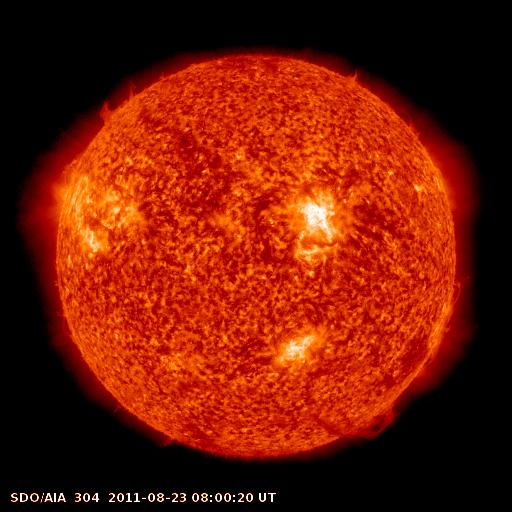prominence: (311, 400, 409, 448), (96, 76, 148, 123), (435, 271, 473, 333), (56, 147, 90, 190)
